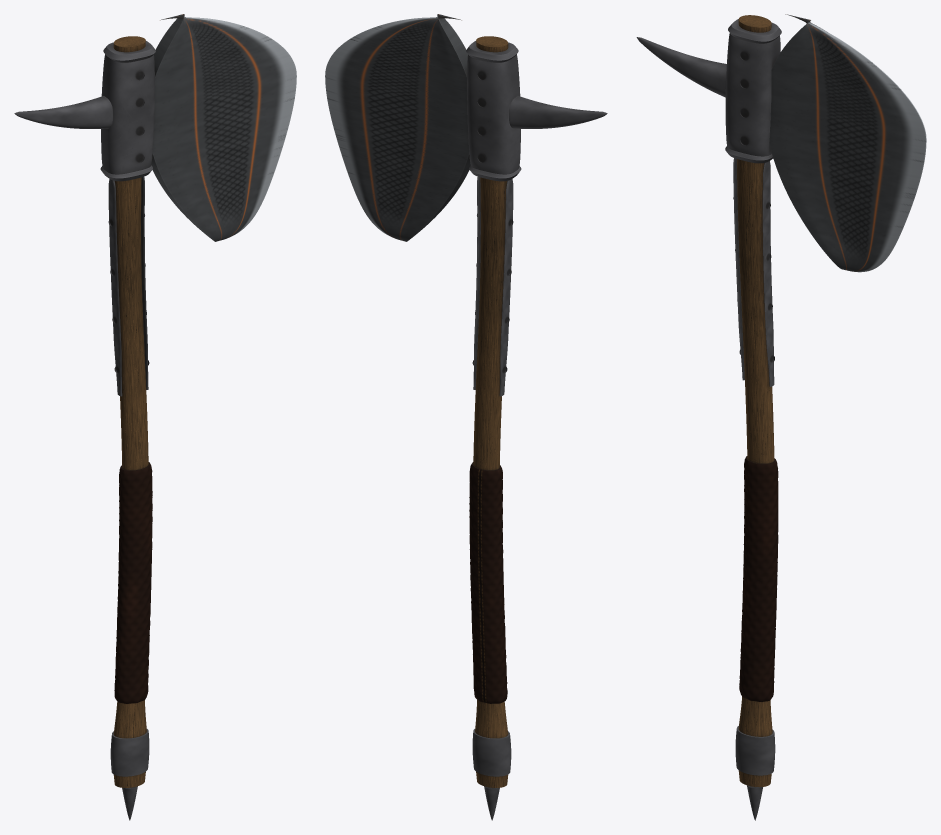
Rendered from axe_hd.glb.
3 views of the same model, side by side, from view 1: azimuth 30°, elevation 25°; view 2: azimuth 150°, elevation 25°; view 3: azimuth 330°, elevation 25° (orthographic). The views are drawn at different scales.
Parts seen in each view (by area): view 1: Weapon; view 2: Weapon; view 3: Weapon.
Part boxes in pixels (x1,y1,x2,y2): Weapon: (14, 14, 296, 820); Weapon: (325, 14, 607, 820); Weapon: (636, 14, 926, 820).
Bounding box in the file's own units: 0.415 × 1.11 × 0.0616.
1 material, 1 textured.
